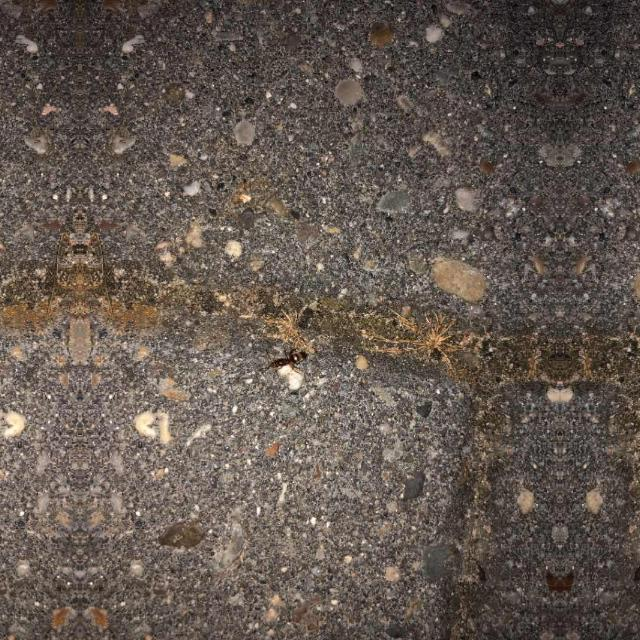Lasius: (267, 342, 309, 373)
